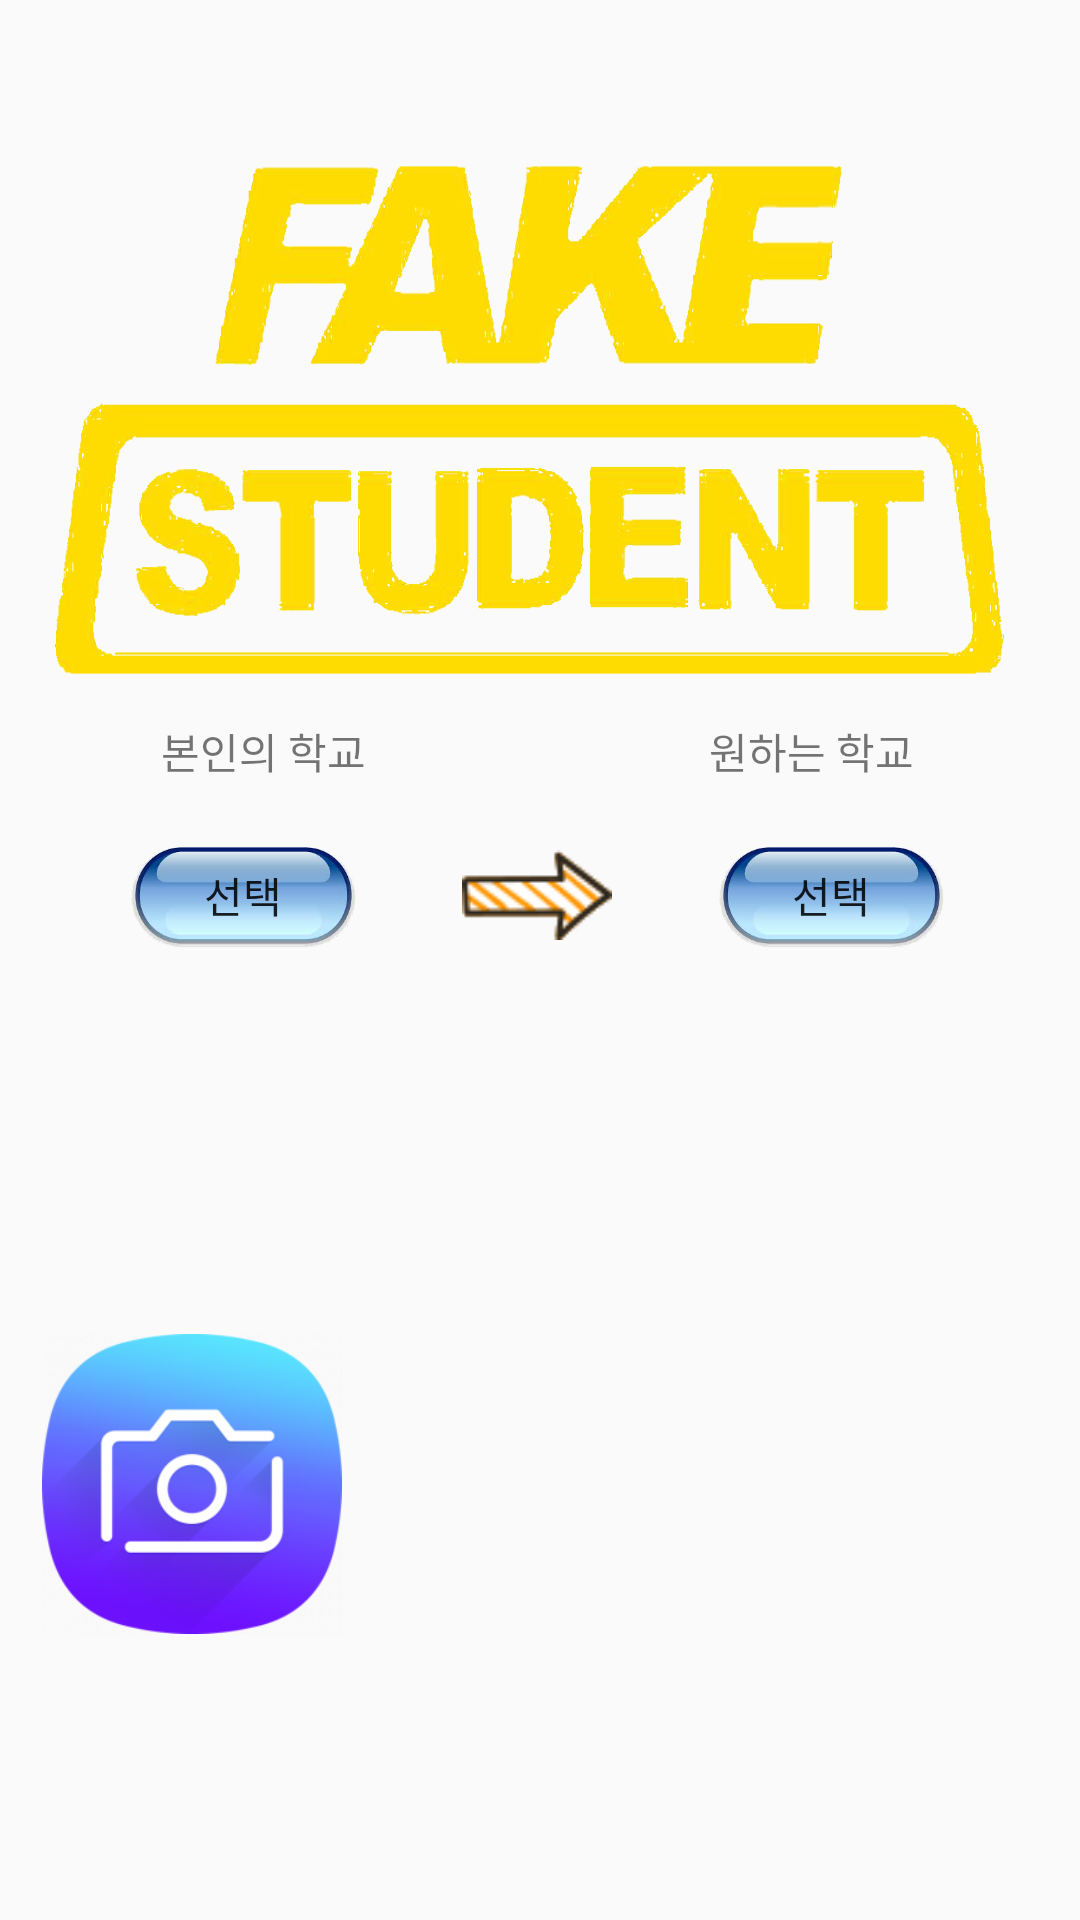

Icons on this 1080 × 1920 Android screen, each with its box as box=[x1, y1, x2, y2]:
arrow: box=[462, 850, 612, 940]
camera: box=[42, 1334, 342, 1634]
